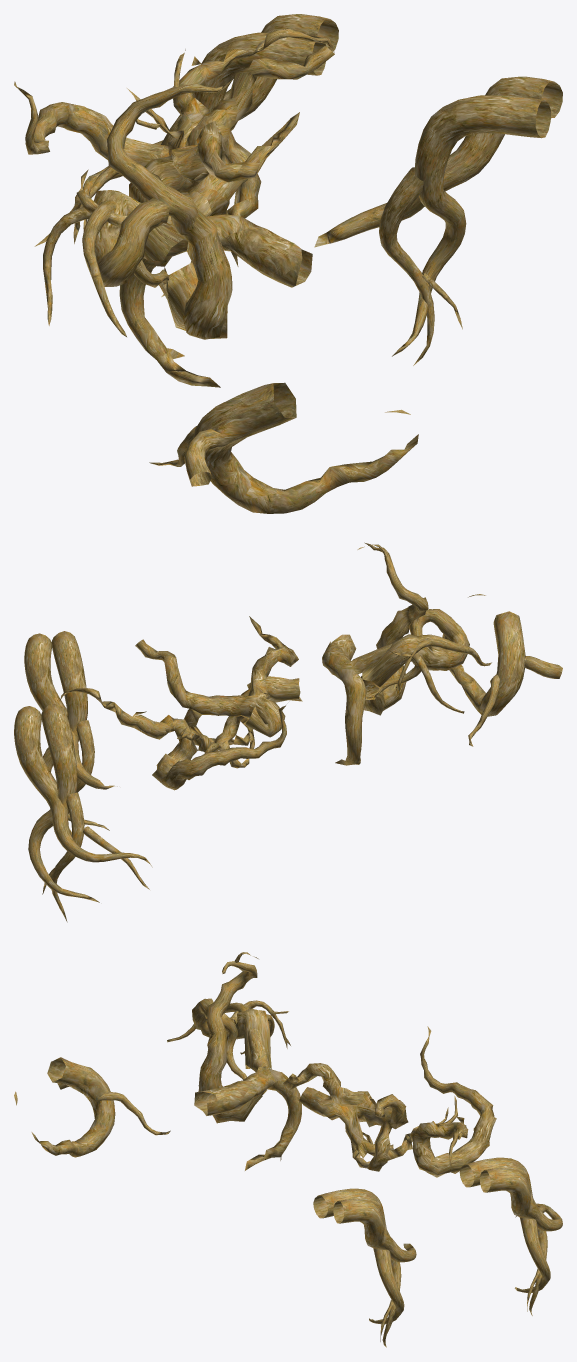
The model's file is NaveeBioSkib17_CleanUp_x02_Roedder4_glb01.glb.
The picture shows the model from 3 angles, top to bottom: view 1: azimuth 30°, elevation 25°; view 2: azimuth 150°, elevation 25°; view 3: azimuth 270°, elevation 25°; orthographic projection. The views are drawn at different scales.
Parts seen in each view (by area): view 1: Grene.001; view 2: Grene.001; view 3: Grene.001.
Part boxes in pixels (x1,y1,x2,y2): Grene.001: [14, 14, 562, 513]; Grene.001: [14, 542, 562, 922]; Grene.001: [14, 952, 562, 1347].
Size of the model in its own units: 0.8093 by 0.6135 by 1.04.
Materials: 1 (1 with a texture image).
